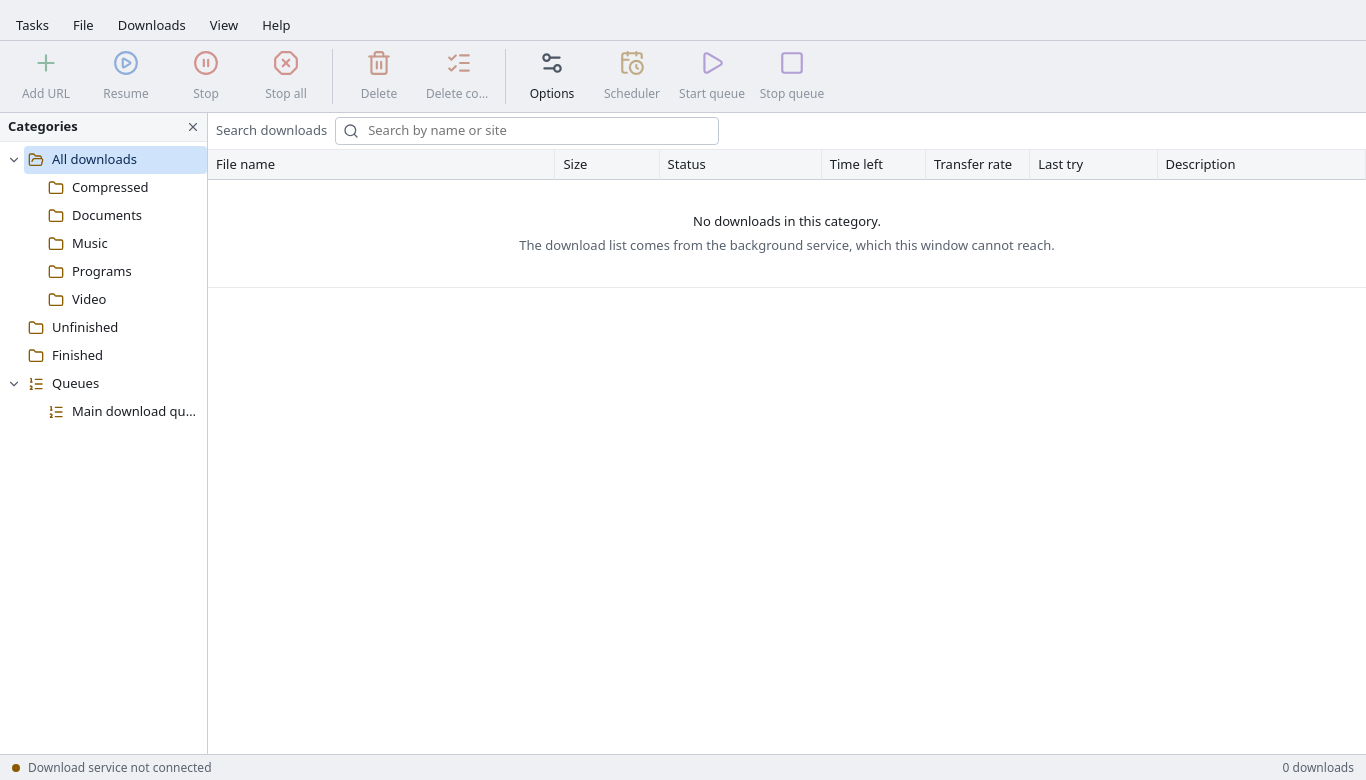
Scenario: categories panel close button › hides the panel and View menu shows it again
Step 1. Click the button named "Hide categories" → (193, 127), box x1=183 y1=117 x2=203 y2=137
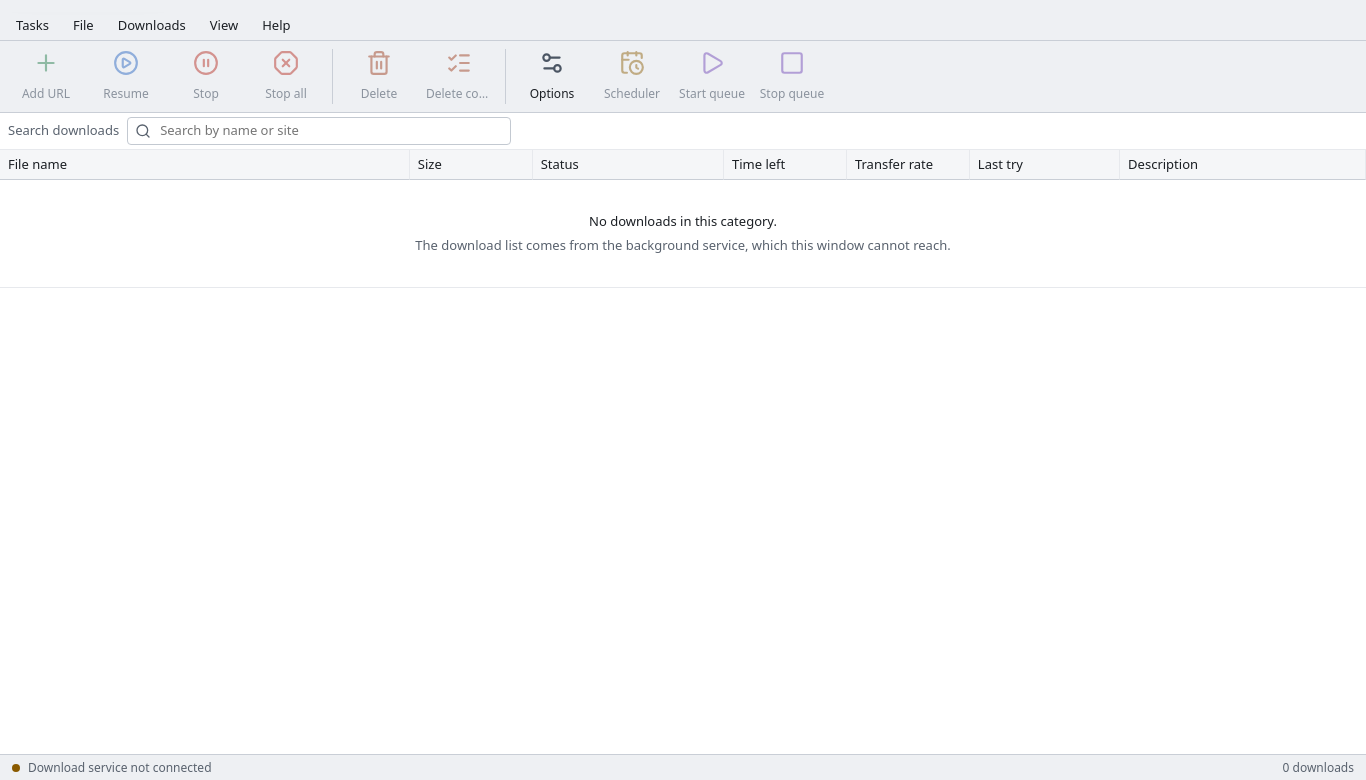
Expected: the heading "Categories" is gone
Step 2. Click the menu item "View" → (224, 26), box x1=198 y1=12 x2=250 y2=40
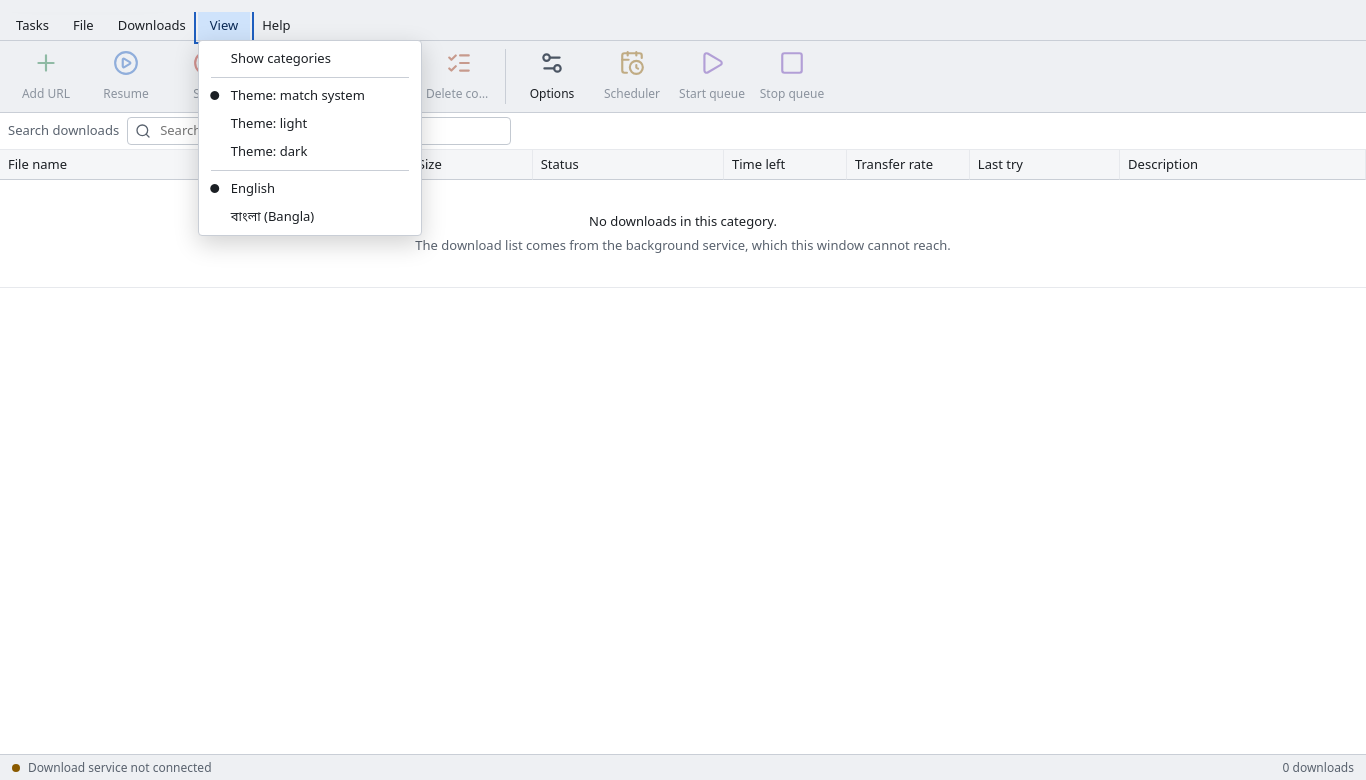
Step 3. Click the menu item "Show categories" → (310, 59), box x1=203 y1=45 x2=417 y2=73
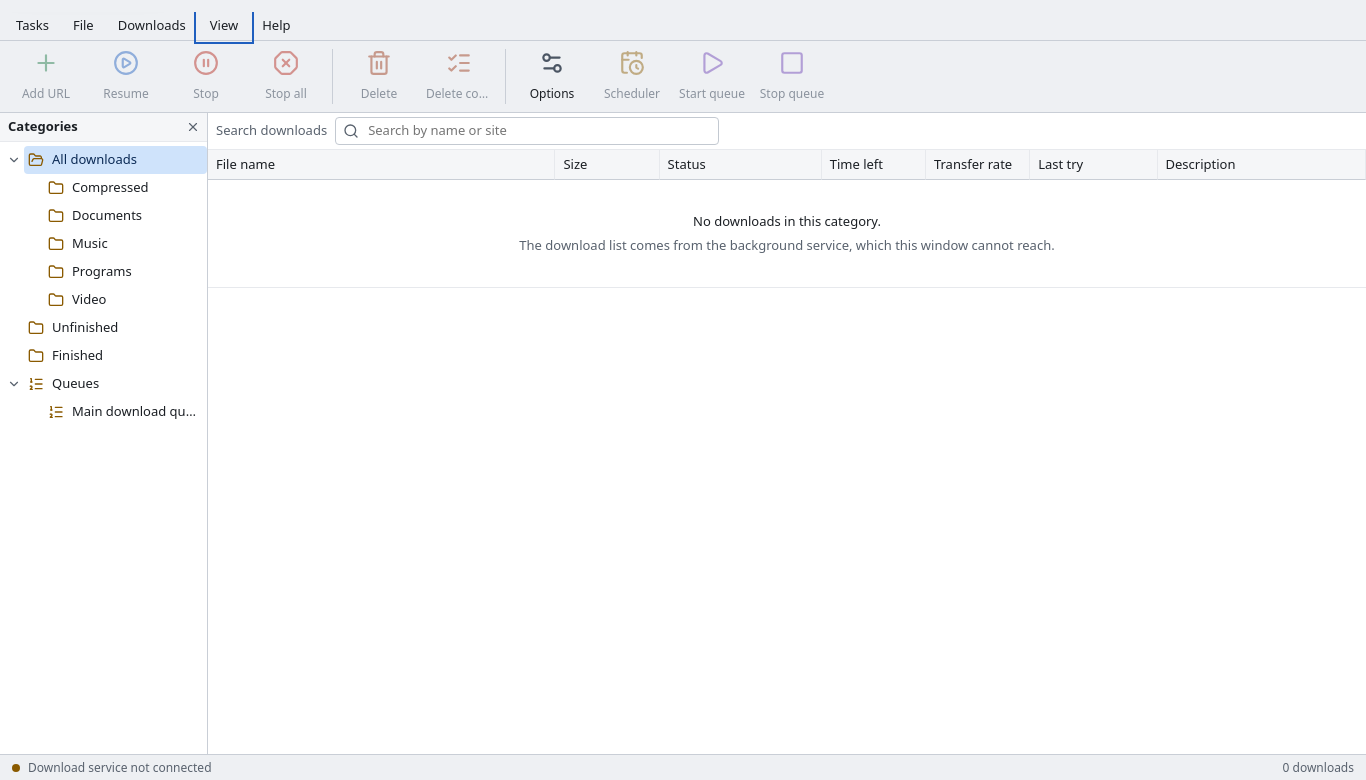
Expected: the navigation bar "Categories" is shown, x1=0 y1=113 x2=208 y2=754
